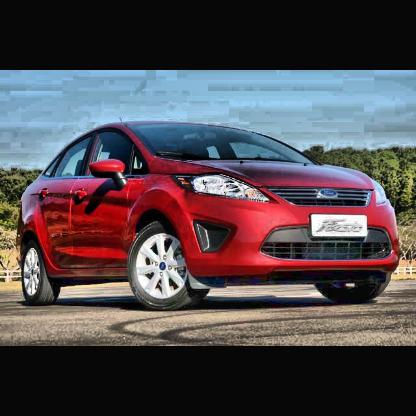Ford Fiesta Sedan 2012: (20, 118, 403, 314)
